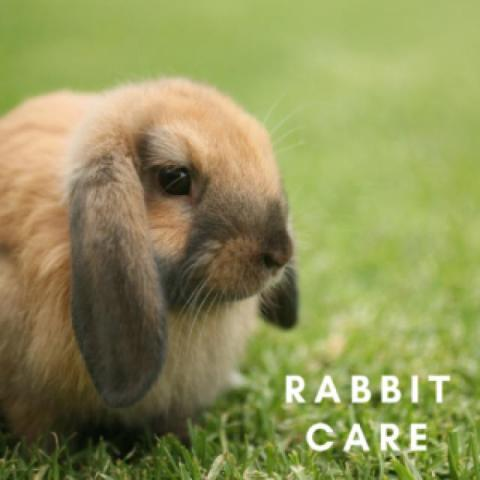small_animal: (0, 74, 302, 448)
